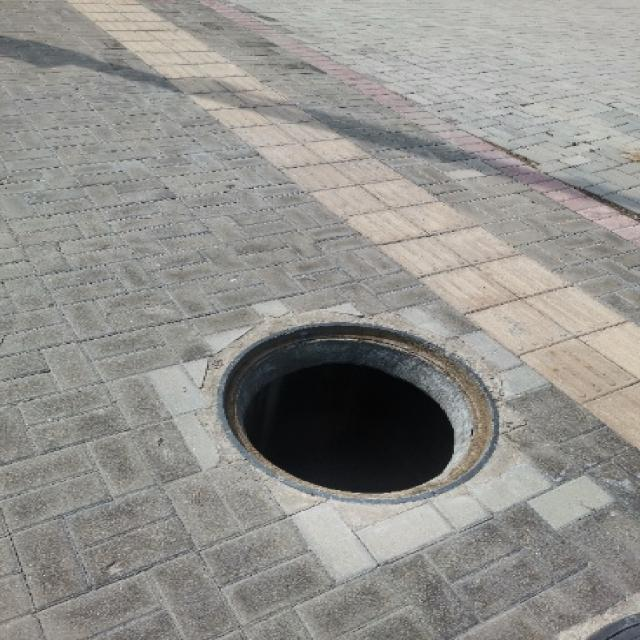Faulty: (186, 305, 534, 516)
